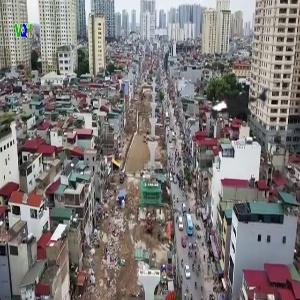drone: (189, 49, 290, 150)
